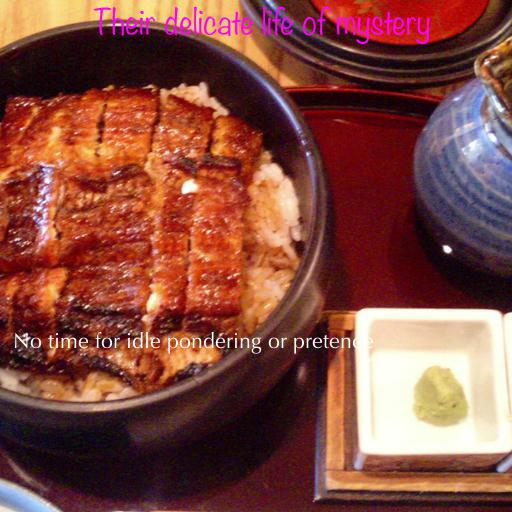Noteworthy: (93, 6, 431, 45)
Optima: (12, 331, 374, 354)
